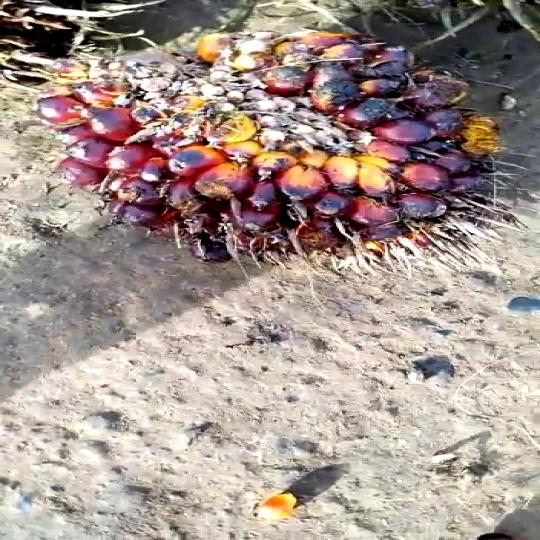masak: (38, 22, 514, 255)
